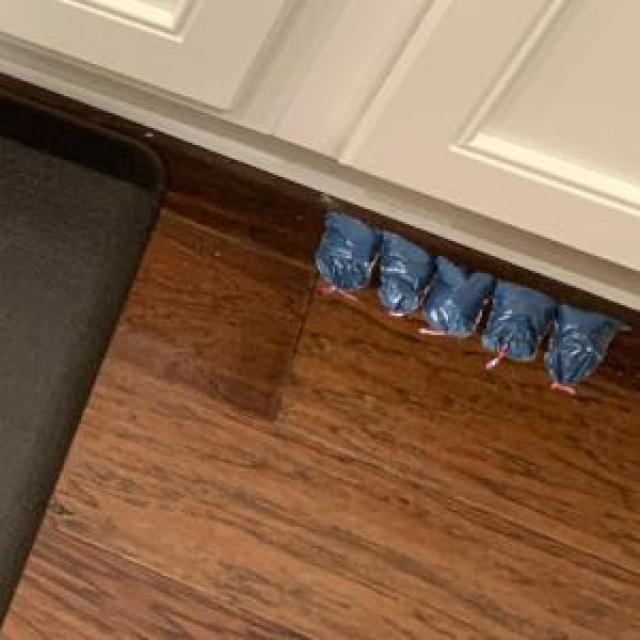miscellaneous trash: (312, 207, 624, 382)
